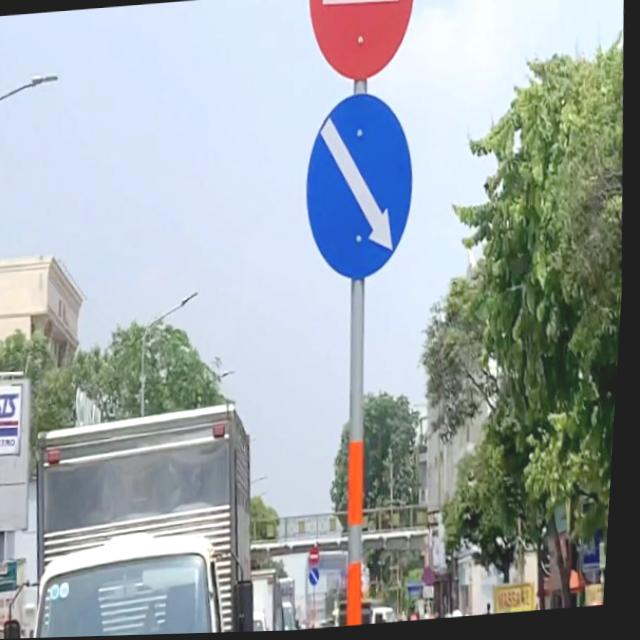Cam di nguoc chieu: (300, 0, 422, 92)
Vong chuong ngai vat sang phai: (295, 88, 428, 295)
